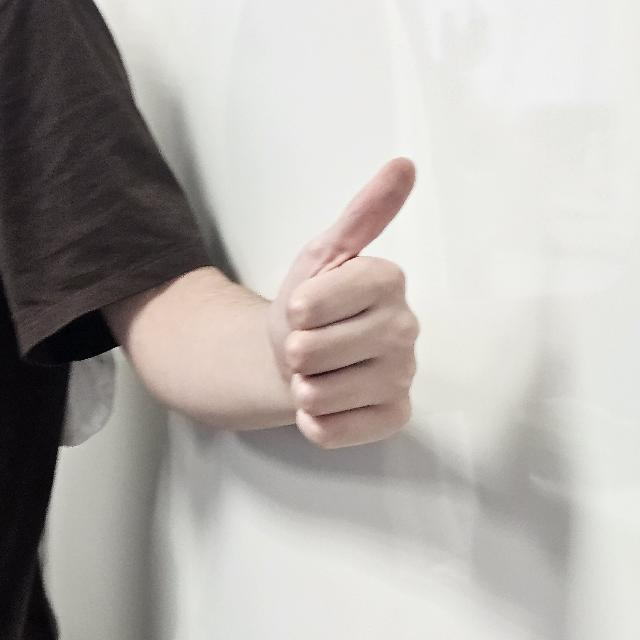Start: (276, 160, 422, 448)
